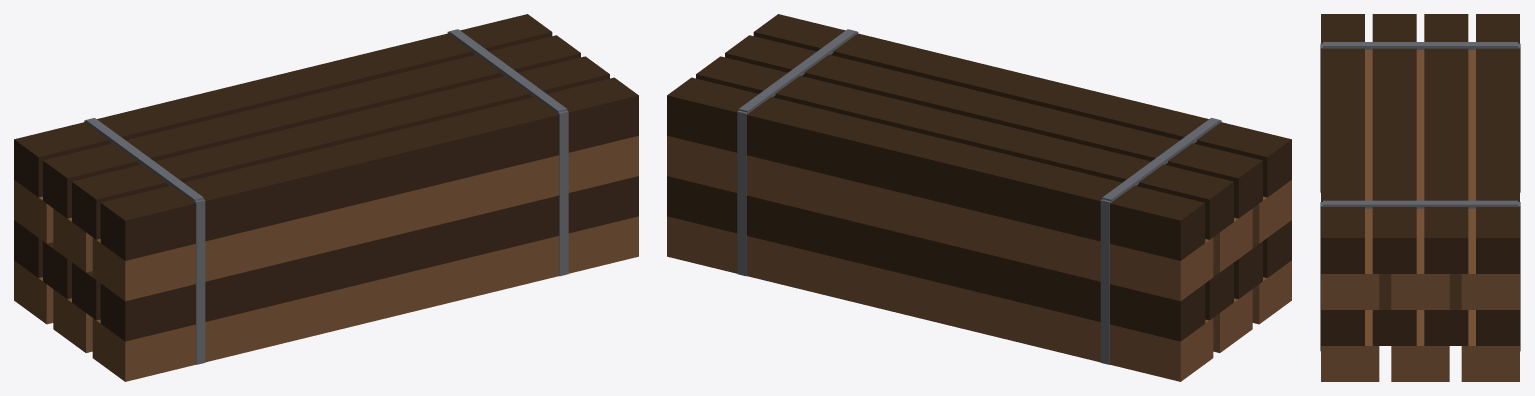
File: SN_Timber_Stack.glb
The picture shows the model from 3 angles, left to right: view 1: azimuth 30°, elevation 25°; view 2: azimuth 150°, elevation 25°; view 3: azimuth 270°, elevation 25°; orthographic projection. The views are drawn at different scales.
Visible parts, largest first — view 1: SN_Timber_Stack; view 2: SN_Timber_Stack; view 3: SN_Timber_Stack.
Boxes of the visible parts, x1,y1,x2,y2 form: SN_Timber_Stack: [14, 14, 638, 381]; SN_Timber_Stack: [667, 14, 1291, 381]; SN_Timber_Stack: [1320, 14, 1520, 381].
Size of the model in its own units: 4 by 1.22 by 1.51.
